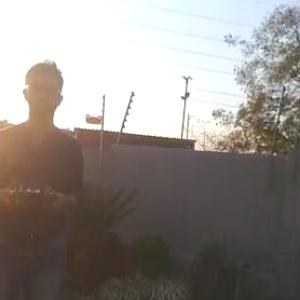follow: (0, 48, 89, 299)
